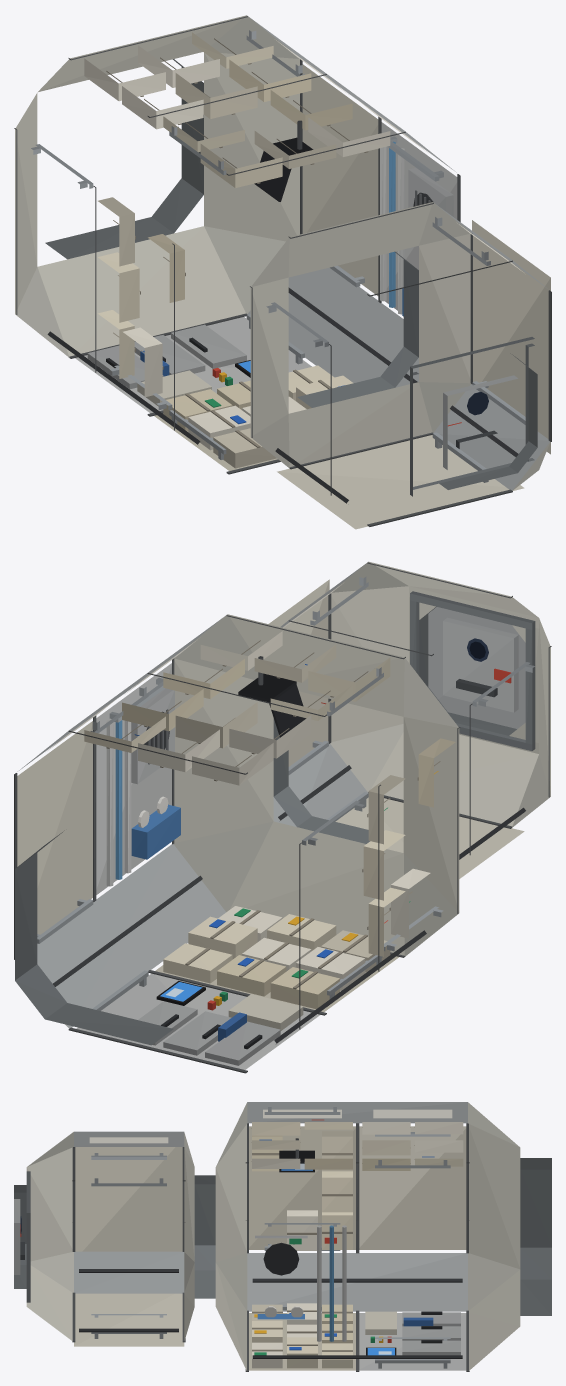
The model's file is m-quest.glb.
The picture shows the model from 3 angles, top to bottom: view 1: azimuth 30°, elevation 25°; view 2: azimuth 150°, elevation 25°; view 3: azimuth 270°, elevation 25°; orthographic projection. The views are drawn at different scales.
Visible parts, largest first — view 1: quest; view 2: quest; view 3: quest.
Boxes of the visible parts, bbox=[...] form: quest: bbox=[14, 15, 551, 529]; quest: bbox=[14, 561, 551, 1073]; quest: bbox=[14, 1102, 551, 1371].
Size of the model in its own units: 2.2 by 2.2 by 5.12.
